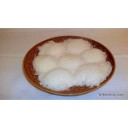idiyappam: (43, 67, 74, 89), (55, 54, 89, 73), (74, 63, 104, 84), (38, 40, 67, 60), (61, 36, 92, 54), (32, 53, 60, 72), (82, 47, 108, 65)
